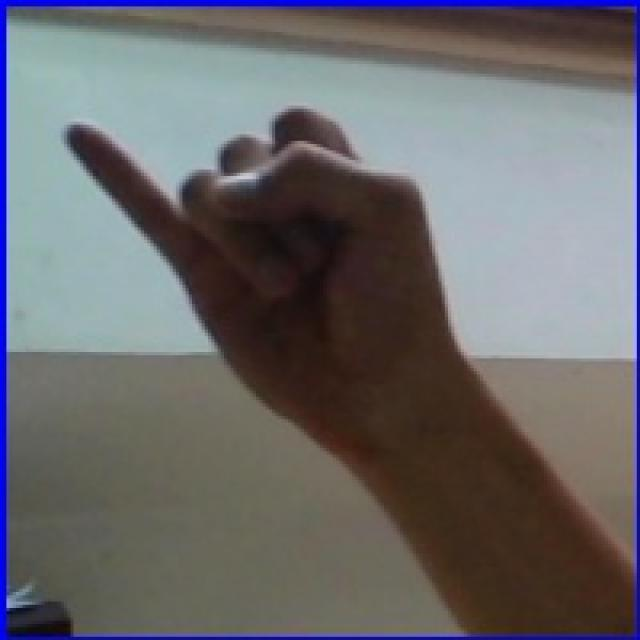J: (40, 46, 567, 509)
